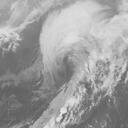cyclone: (40, 32, 105, 86)
